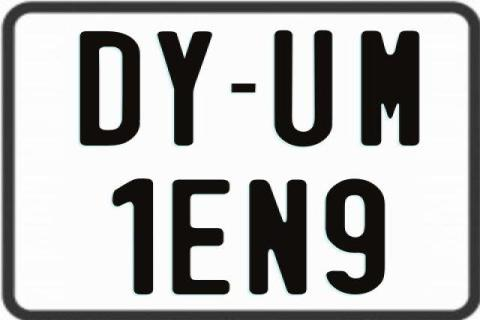0: (324, 177, 385, 296), (111, 177, 157, 295)
D: (77, 29, 137, 143)
E: (170, 180, 231, 298)
M: (361, 31, 420, 147)
N: (249, 179, 308, 299)
U: (271, 29, 329, 150)
Y: (157, 29, 216, 148)
